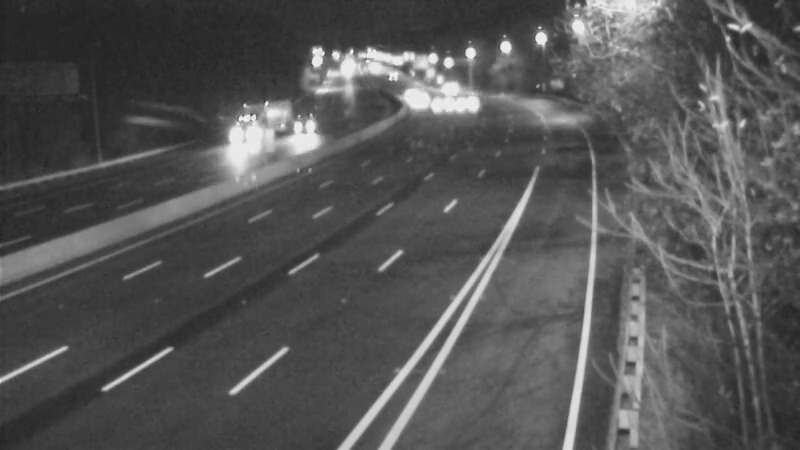vehicle: (363, 51, 413, 101), (424, 62, 474, 112), (384, 68, 434, 118), (398, 79, 448, 129), (445, 78, 495, 128), (412, 80, 462, 130), (218, 109, 268, 159), (275, 103, 325, 153)
